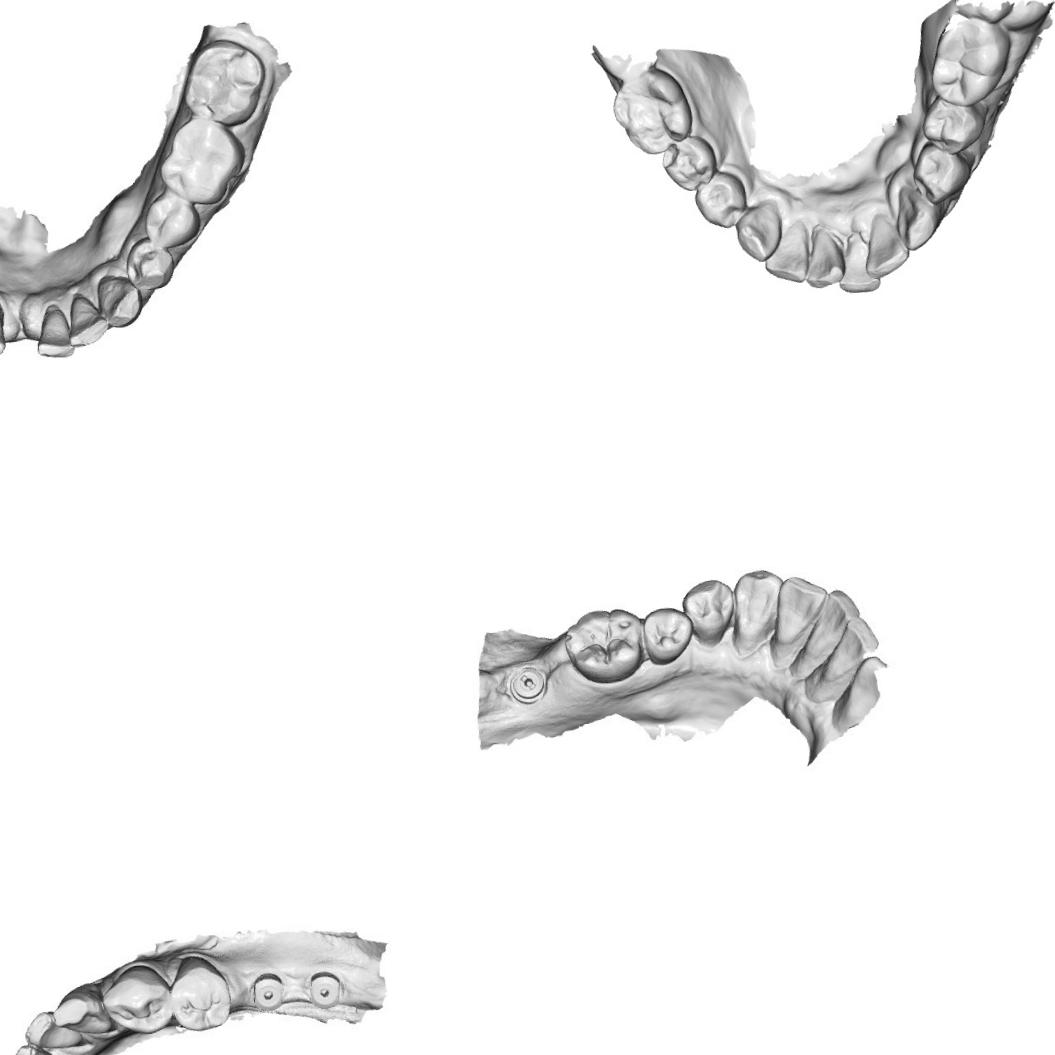canine: (724, 560, 788, 653), (890, 179, 943, 253), (732, 196, 785, 265), (51, 988, 111, 1046), (98, 272, 145, 330)
implant: (306, 965, 341, 1010), (250, 970, 290, 1009)
implant_minus: (505, 659, 548, 708)
incisor: (790, 582, 860, 668), (811, 615, 889, 690), (772, 575, 827, 647), (859, 211, 911, 280), (833, 226, 883, 296), (759, 221, 812, 287), (799, 222, 846, 290), (30, 298, 73, 360), (66, 291, 109, 349), (24, 1008, 78, 1050), (2, 1042, 67, 1055)
molar: (924, 11, 1016, 110), (152, 115, 248, 206), (175, 37, 269, 128), (608, 64, 696, 158), (560, 602, 652, 686)
premolar: (165, 950, 234, 1036), (103, 964, 173, 1044), (916, 92, 988, 158), (678, 576, 738, 648), (656, 132, 723, 196), (908, 139, 972, 204), (690, 167, 752, 232), (637, 602, 693, 668), (142, 190, 201, 249), (125, 237, 174, 292)
